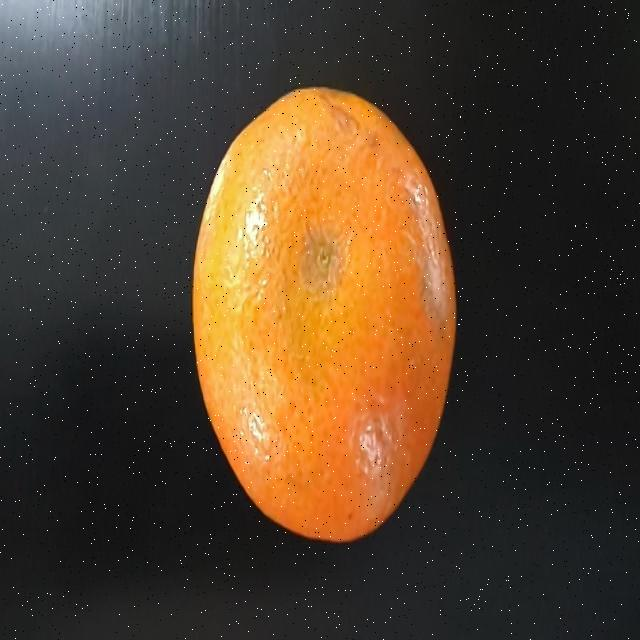Jeruk Mandarin: (191, 68, 463, 556)
